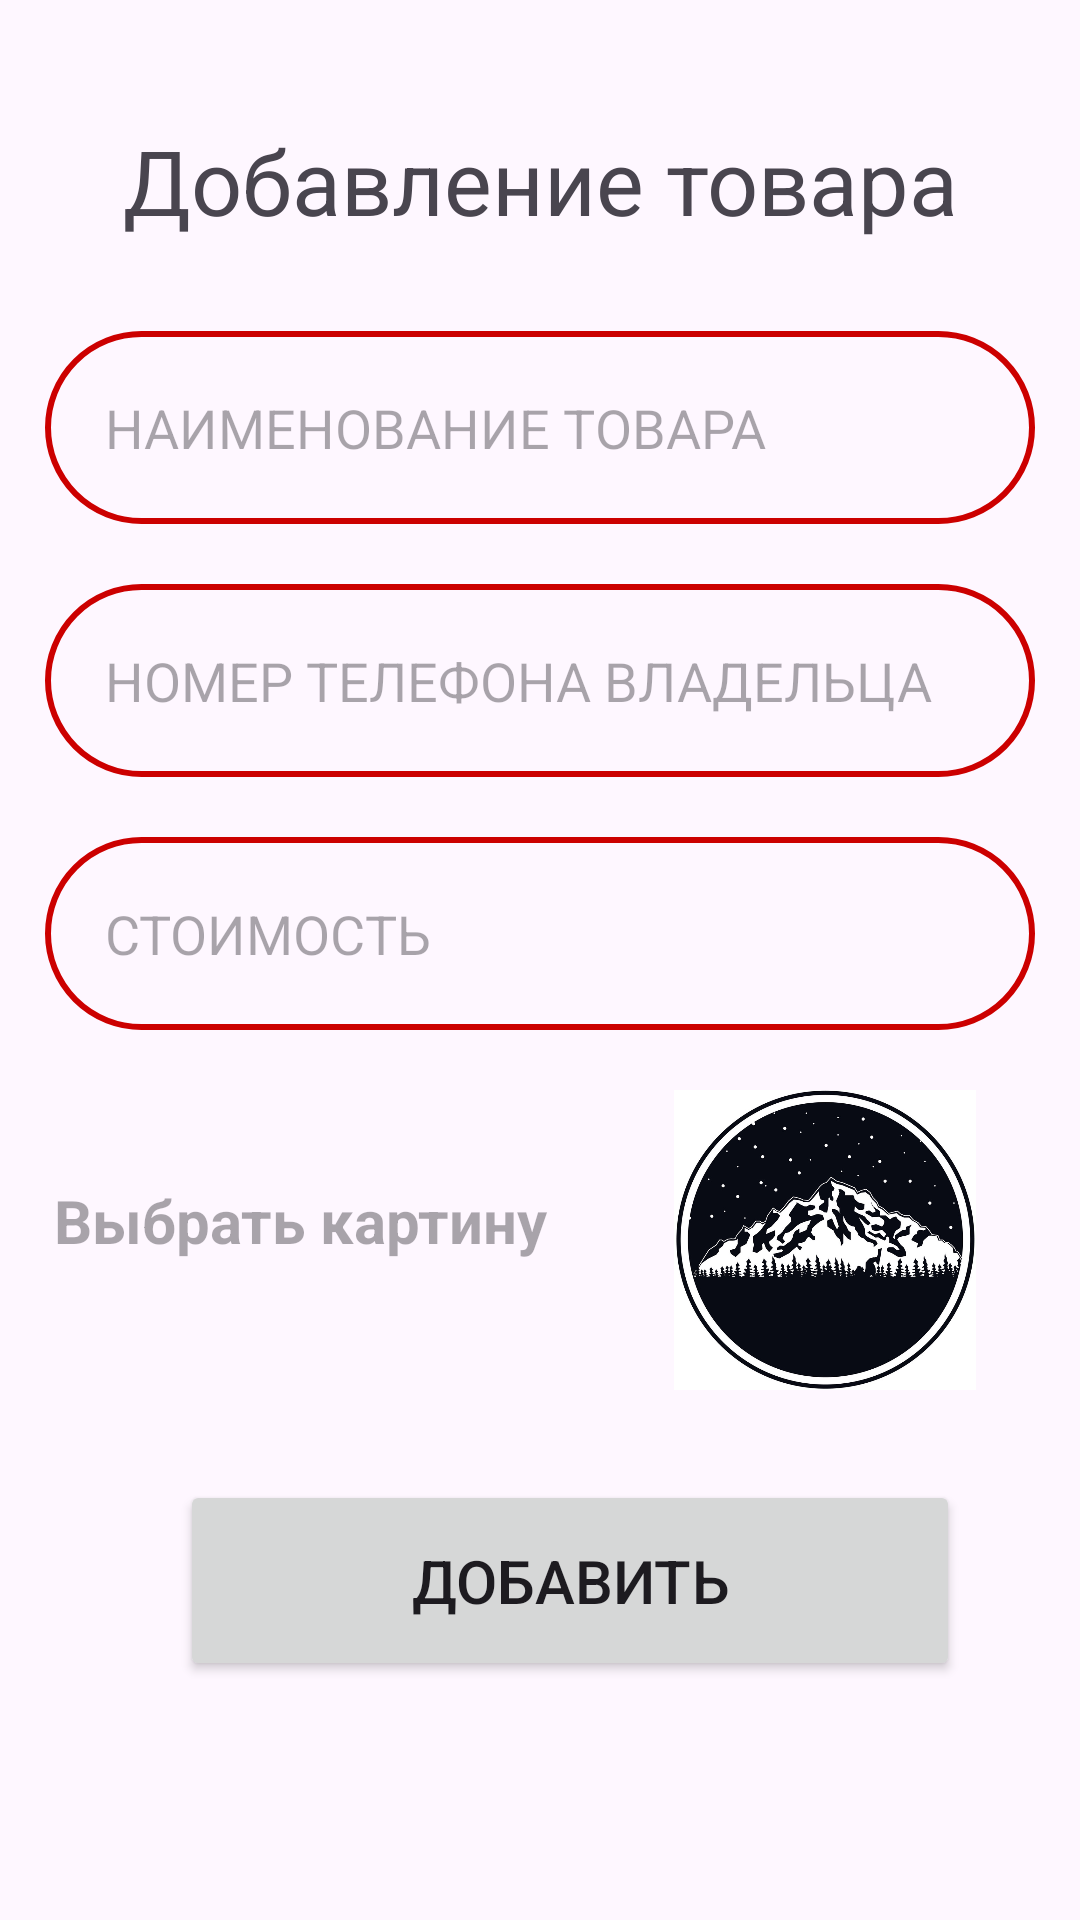

Where icons sit on this 1080w x 1920h app screen, as detection(x1, y1, x2, y2):
mountain: detection(676, 1090, 975, 1389)
